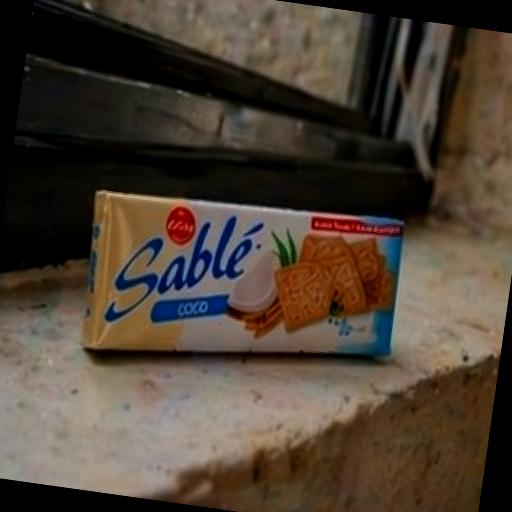sabl: (13, 111, 512, 500)
